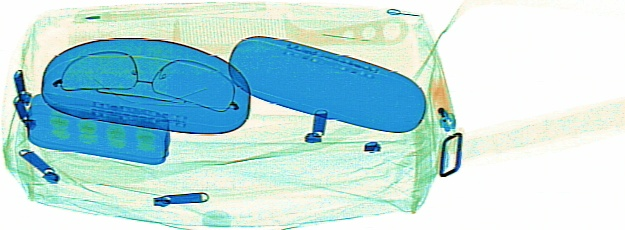lighter: (425, 71, 457, 133)
